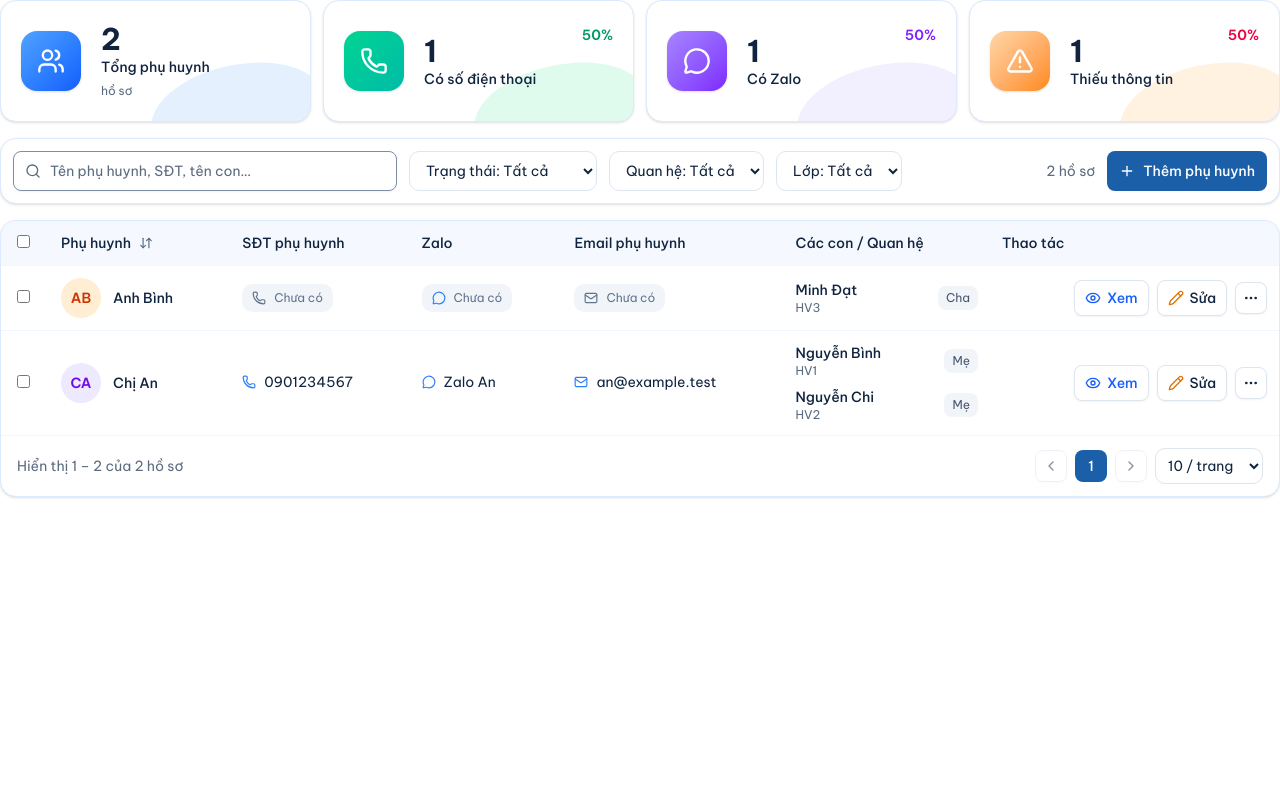
Test: opens the matching list for Có số điện thoại: 1
Click the button with aria-label "Có số điện thoại: 1".
click(478, 61)  # box x1=323 y1=0 x2=634 y2=122
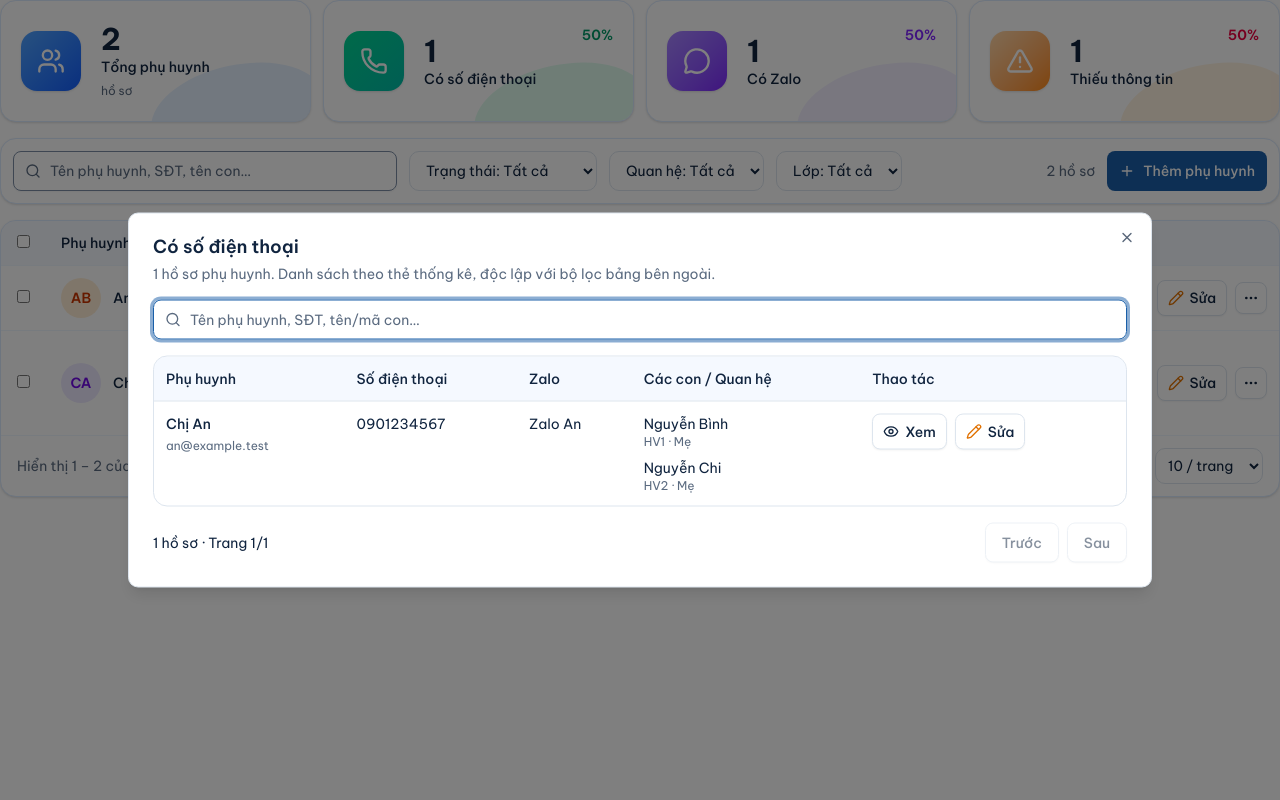
Expected: the text "Chị An" is shown, x1=166 y1=414 x2=211 y2=432
